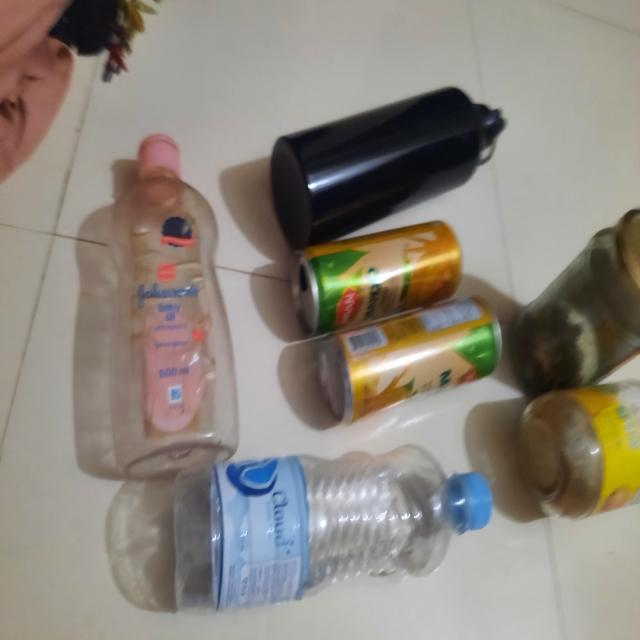Plastics: (161, 458, 500, 600), (117, 111, 239, 486)
can: (278, 82, 512, 413)
